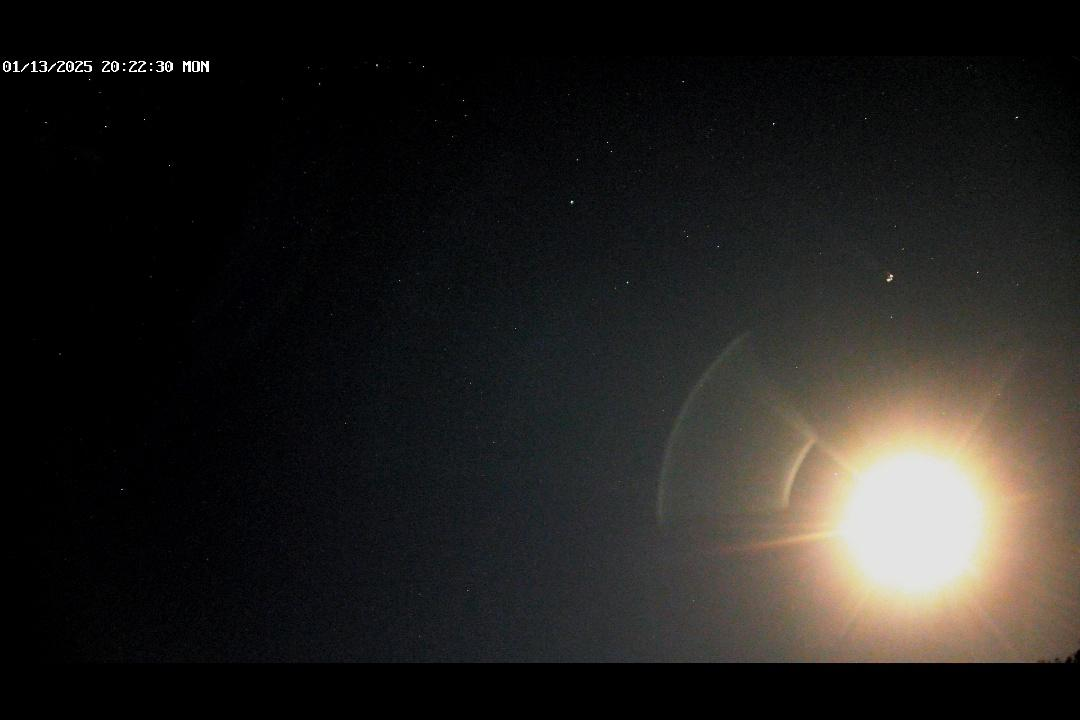Plane: (868, 258, 897, 289)
